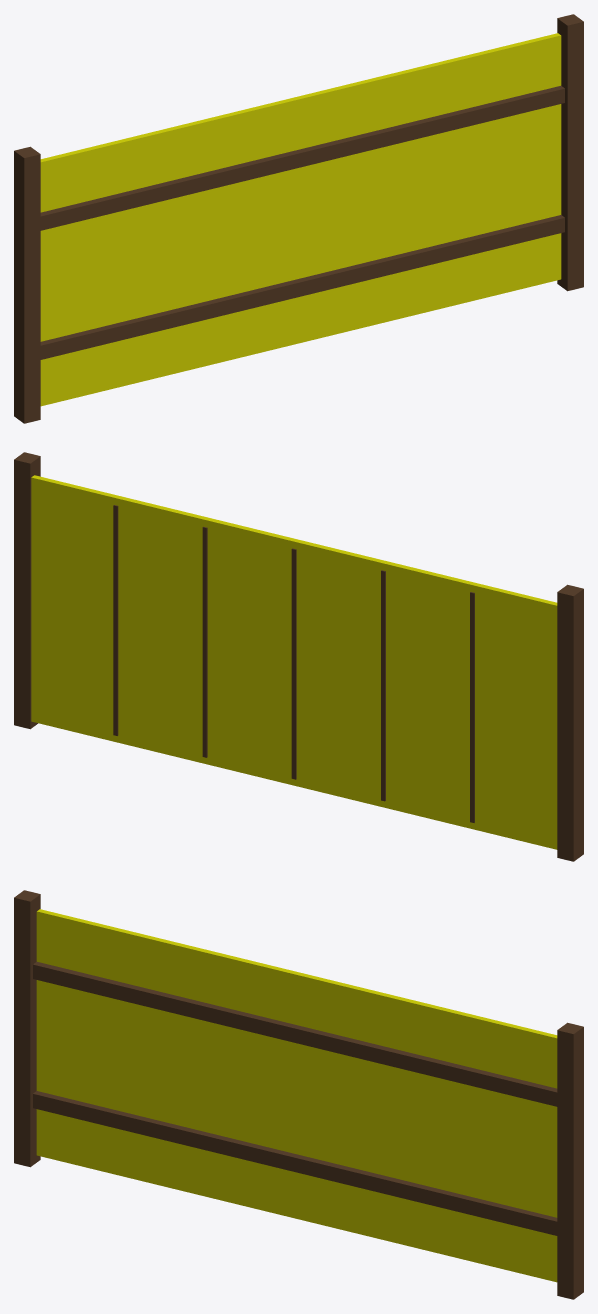
Rendered from FenceBoard.fbx.
3 renders of one model, top to bottom at view 1: azimuth 30°, elevation 25°; view 2: azimuth 150°, elevation 25°; view 3: azimuth 330°, elevation 25°, orthographic.
Parts seen in each view (by area): view 1: FenceBoard; view 2: FenceBoard; view 3: FenceBoard.
Boxes of the visible parts, box(x1,y1,x2,y2) form: FenceBoard: box(14, 14, 583, 423); FenceBoard: box(14, 452, 583, 861); FenceBoard: box(14, 890, 583, 1299).
Size of the model in its own units: 4.08 by 1.85 by 0.13.
